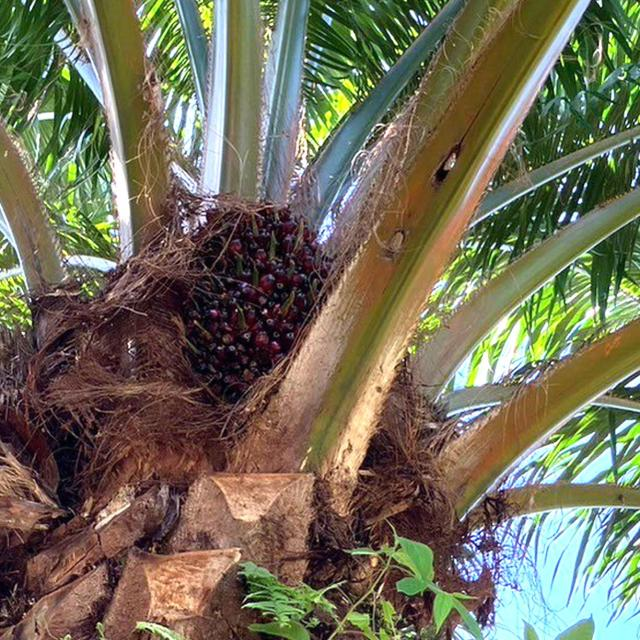ripe: (150, 195, 334, 407)
